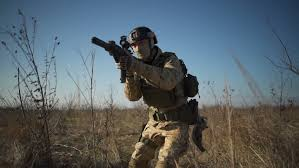gun: (90, 35, 133, 81)
